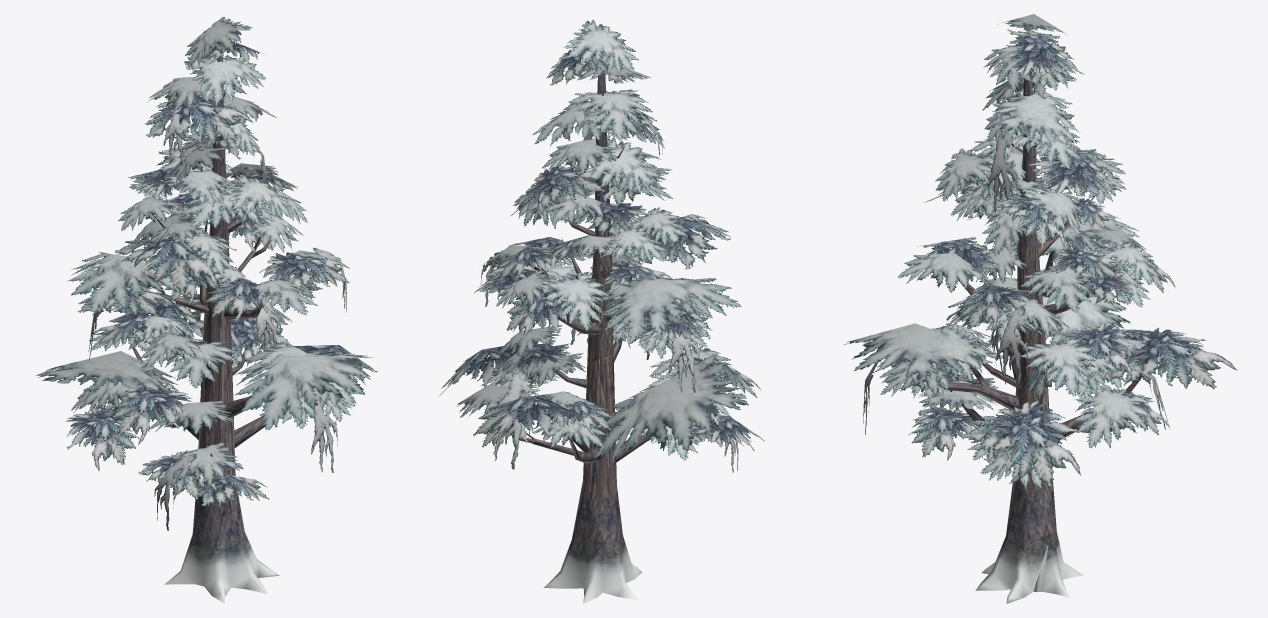
Rendered from 3-1_shu5.FBX.
The picture shows the model from 3 angles, left to right: view 1: azimuth 30°, elevation 25°; view 2: azimuth 150°, elevation 25°; view 3: azimuth 270°, elevation 25°; orthographic projection. The views are drawn at different scales.
Visible parts, largest first — view 1: 3-1_shu5; view 2: 3-1_shu5; view 3: 3-1_shu5.
Boxes of the visible parts, x1,y1,x2,y2 form: 3-1_shu5: (35, 17, 377, 603); 3-1_shu5: (439, 19, 764, 603); 3-1_shu5: (843, 14, 1237, 603).
Bounding box in the file's own units: 638 × 977 × 695.
